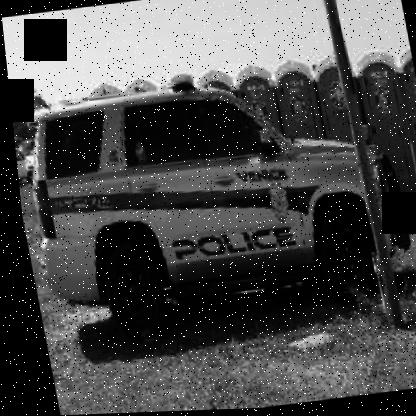emergency: (7, 49, 415, 370)
